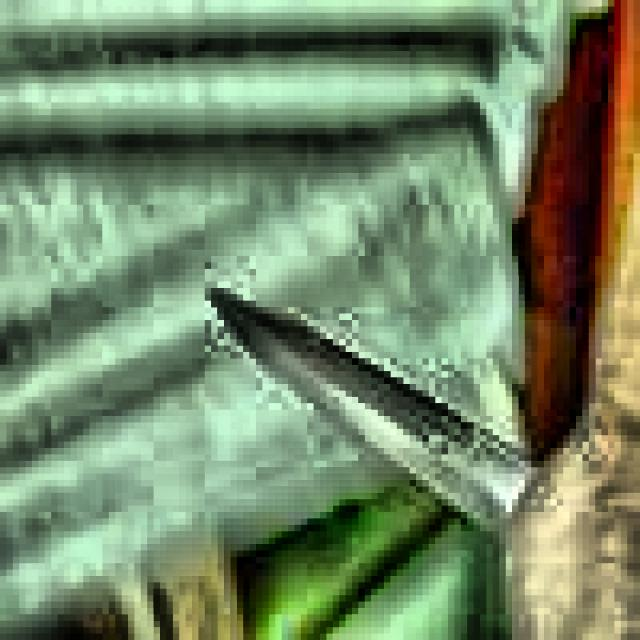knife: (215, 293, 542, 533)
